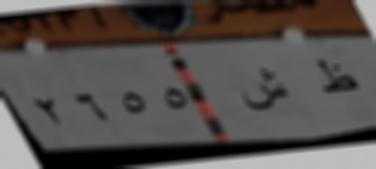2: (35, 92, 64, 136)
5: (118, 82, 147, 122), (165, 84, 188, 116)
6: (74, 89, 109, 128)
Thaa: (312, 47, 360, 100)
sheen: (237, 65, 290, 116)
